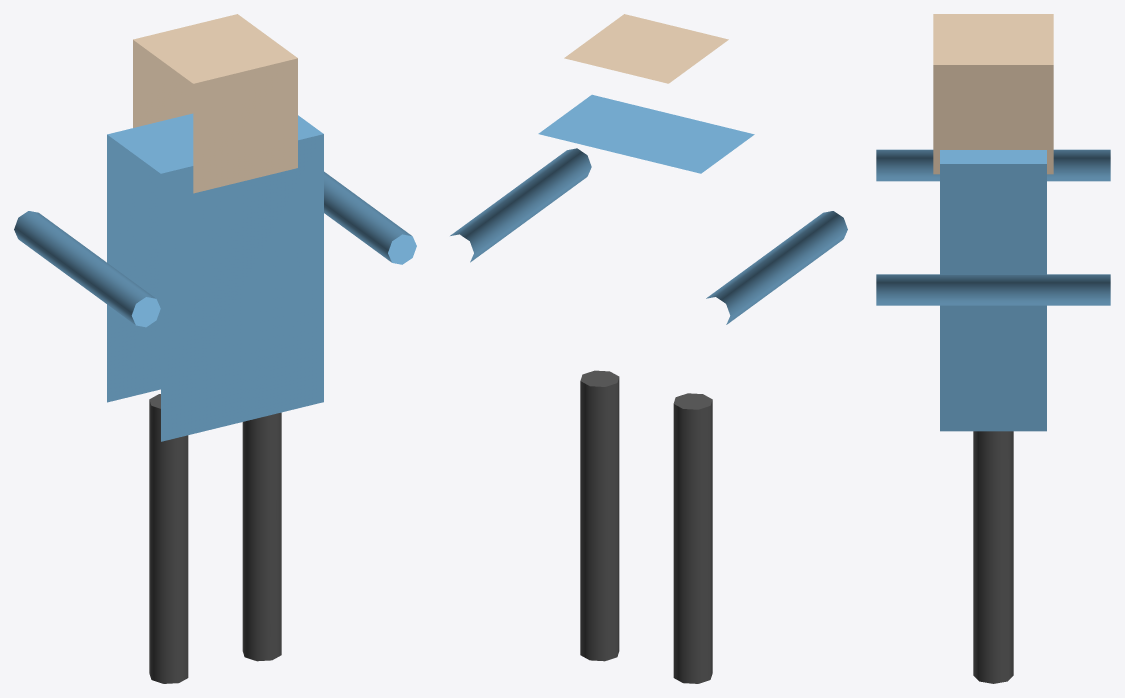
The model's file is pedestrian.gltf.
3 views of the same model, side by side, from view 1: azimuth 30°, elevation 25°; view 2: azimuth 150°, elevation 25°; view 3: azimuth 270°, elevation 25° (orthographic).
Parts seen in each view (by area): view 1: Torso, Head, Leg_-1, Leg_1, Arm_-1, Arm_1; view 2: Leg_-1, Leg_1, Torso, Head, Arm_1, Arm_-1; view 3: Torso, Head, Leg_1, Arm_1, Arm_-1.
Boxes of the visible parts, x1,y1,x2,y2 form: Torso: [107, 113, 323, 441]; Head: [133, 14, 297, 193]; Leg_-1: [149, 394, 188, 683]; Leg_1: [242, 412, 281, 661]; Arm_-1: [14, 211, 160, 327]; Arm_1: [324, 171, 416, 264]; Leg_-1: [673, 393, 712, 683]; Leg_1: [580, 370, 619, 661]; Torso: [538, 94, 754, 173]; Head: [564, 14, 728, 83]; Arm_1: [450, 148, 591, 262]; Arm_-1: [706, 211, 847, 324]; Torso: [940, 150, 1046, 431]; Head: [933, 14, 1053, 174]; Leg_1: [973, 431, 1013, 683]; Arm_1: [876, 274, 1110, 305]; Arm_-1: [876, 149, 1110, 181].
Size of the model in its own units: 0.49 by 1.01 by 0.35.
